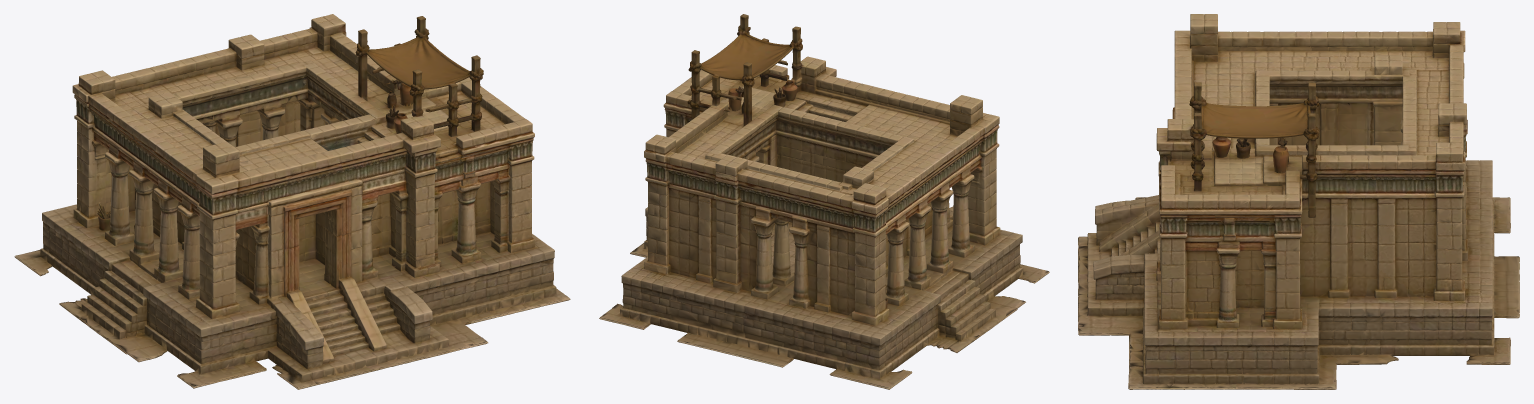
File: egypt.glb
3 views of the same model, side by side, from view 1: azimuth 30°, elevation 25°; view 2: azimuth 150°, elevation 25°; view 3: azimuth 270°, elevation 25° (orthographic). The views are drawn at different scales.
Visible parts, largest first — view 1: tripo_node_2bdb7724-bf9e-4bc6-8d92-c8fca9ef99b5; view 2: tripo_node_2bdb7724-bf9e-4bc6-8d92-c8fca9ef99b5; view 3: tripo_node_2bdb7724-bf9e-4bc6-8d92-c8fca9ef99b5.
Boxes of the visible parts, x1,y1,x2,y2 form: tripo_node_2bdb7724-bf9e-4bc6-8d92-c8fca9ef99b5: (14,14,570,389); tripo_node_2bdb7724-bf9e-4bc6-8d92-c8fca9ef99b5: (599,14,1049,389); tripo_node_2bdb7724-bf9e-4bc6-8d92-c8fca9ef99b5: (1078,14,1519,389).
Size of the model in its own units: 0.9828 by 0.5654 by 0.9224.
Materials: 1 (1 with a texture image).
